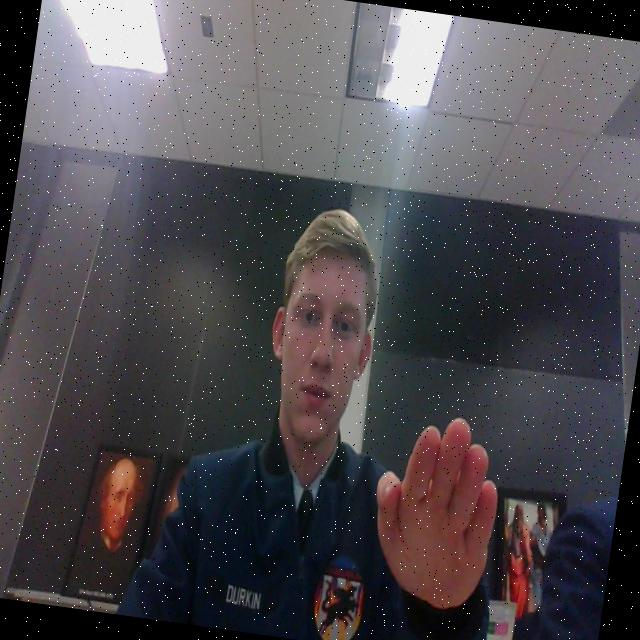paper: (356, 402, 520, 633)
